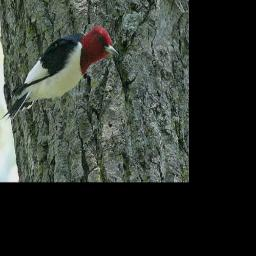Woodpecker: (0, 18, 124, 132)
